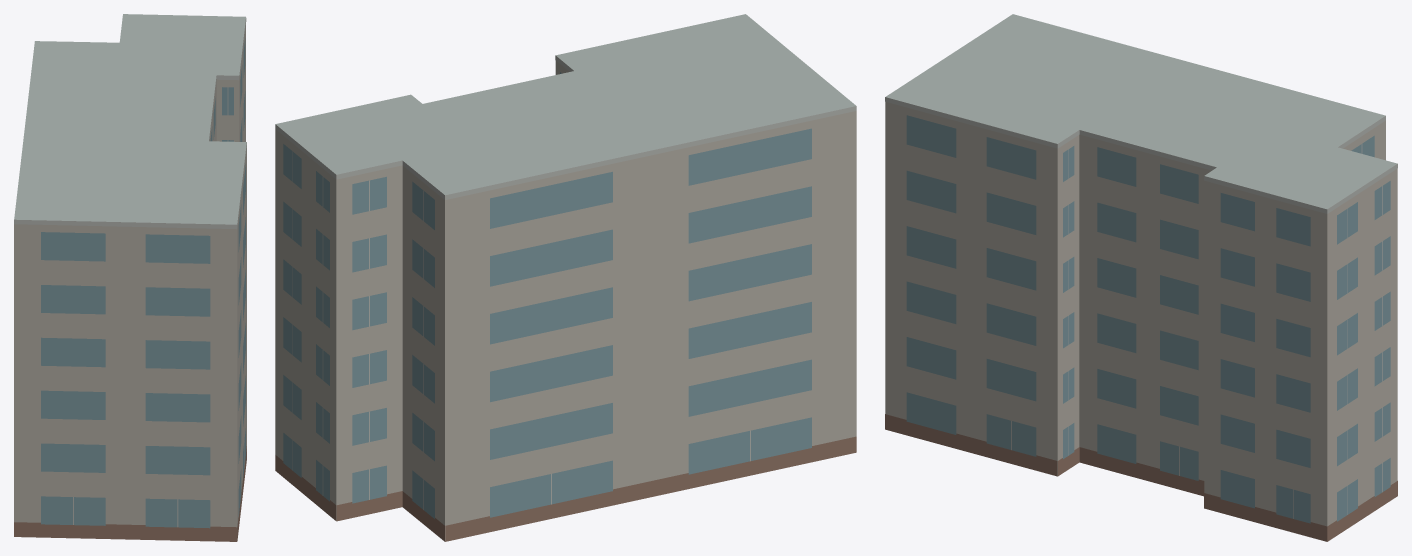
The model's file is survey-upis-32742455.glb.
3 renders of one model, left to right at view 1: azimuth 30°, elevation 25°; view 2: azimuth 150°, elevation 25°; view 3: azimuth 270°, elevation 25°, orthographic. The views are drawn at different scales.
Parts seen in each view (by area): view 1: survey-upis-32742455.tmp; view 2: survey-upis-32742455.tmp; view 3: survey-upis-32742455.tmp.
Boxes of the visible parts, left/top/right/bottom form: survey-upis-32742455.tmp: left=14, top=14, right=246, bottom=541; survey-upis-32742455.tmp: left=275, top=14, right=856, bottom=541; survey-upis-32742455.tmp: left=885, top=14, right=1397, bottom=541.
Bounding box in the file's own units: 21.94 × 17.4 × 24.32.
